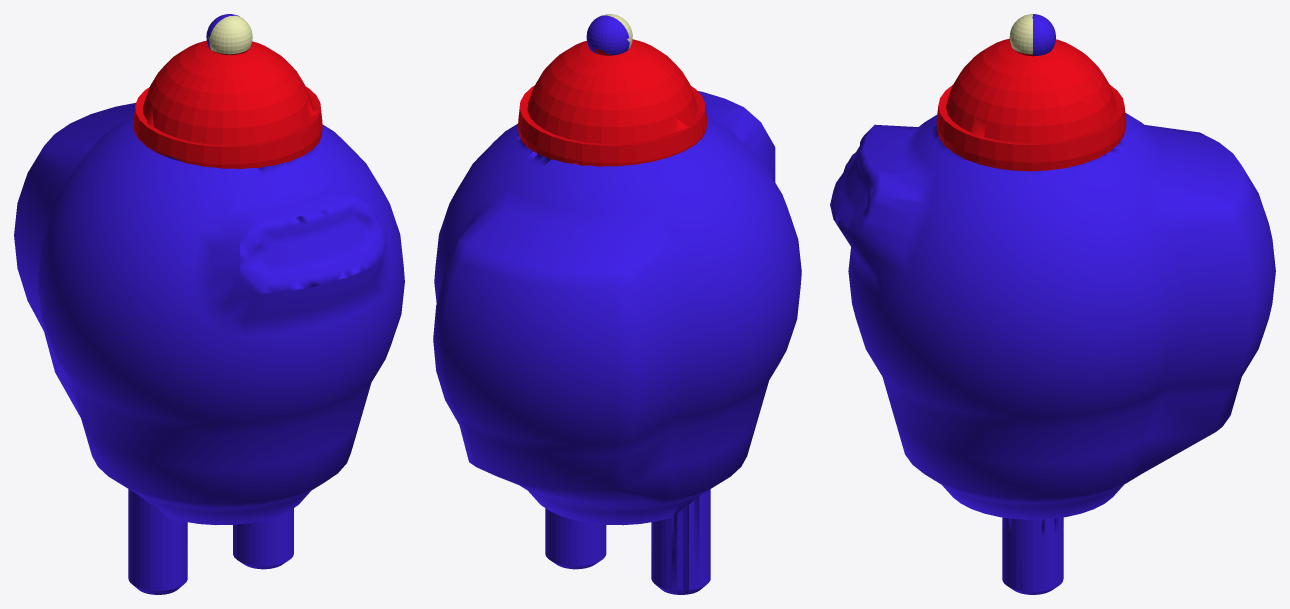
3 renders of one model, left to right at view 1: azimuth 30°, elevation 25°; view 2: azimuth 150°, elevation 25°; view 3: azimuth 270°, elevation 25°, orthographic.
Parts seen in each view (by area): view 1: Sphere.002; view 2: Sphere.002; view 3: Sphere.002.
Boxes of the visible parts, x1,y1,x2,y2 form: Sphere.002: [14, 14, 404, 594]; Sphere.002: [433, 14, 801, 594]; Sphere.002: [830, 14, 1275, 594].
Bounding box in the file's own units: 2 × 3.31 × 2.42.
